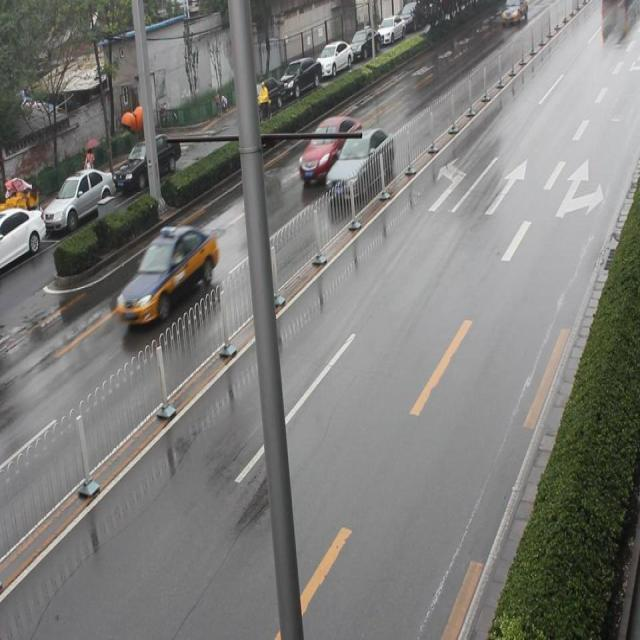car: (112, 221, 217, 327), (326, 125, 395, 199), (296, 111, 361, 184)
